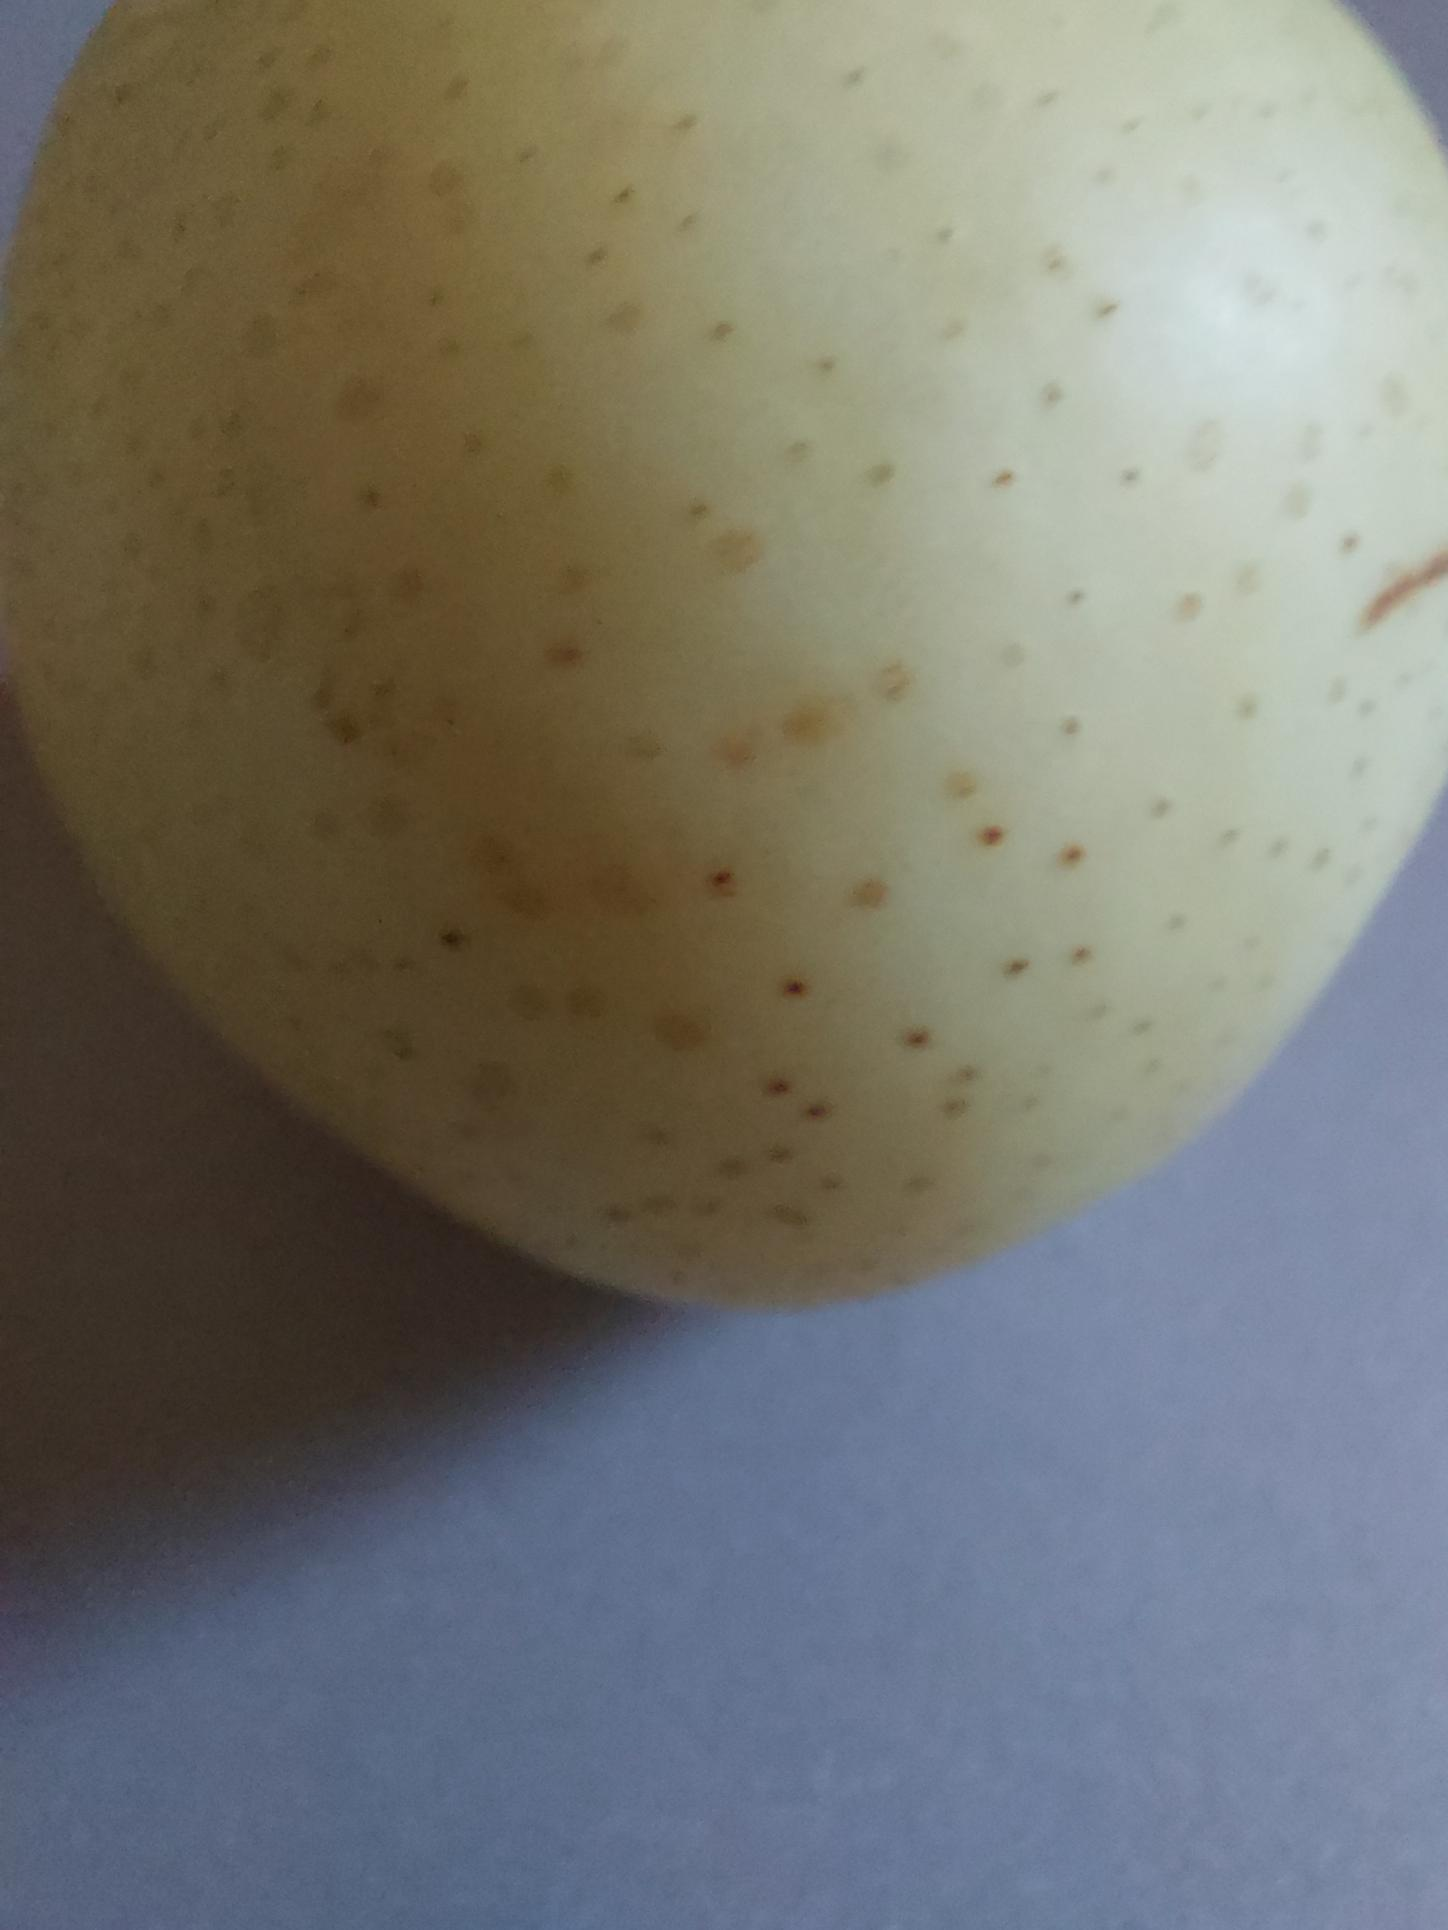Good Pear: (11, 0, 1448, 1376)
